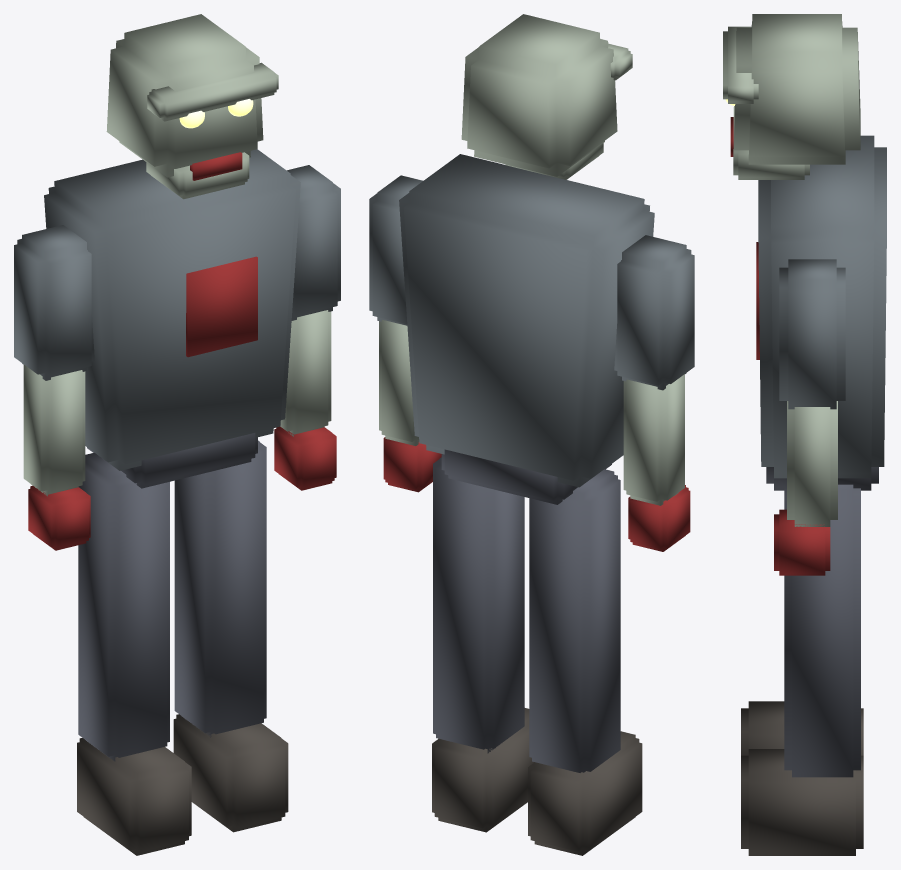
Rendered from zombie-walker.glb.
3 views of the same model, side by side, from view 1: azimuth 30°, elevation 25°; view 2: azimuth 150°, elevation 25°; view 3: azimuth 270°, elevation 25° (orthographic).
Visible parts, largest first — view 1: Torso, Leg_L, Leg_R, Arm_L, Head, Arm_R, Jaw; view 2: Torso, Leg_L, Leg_R, Arm_L, Head, Arm_R; view 3: Leg_R, Torso, Head, Arm_R, Leg_L, Jaw.
Boxes of the visible parts, x1,y1,x2,y2 form: Torso: (44,149,300,488); Leg_L: (77,452,191,855); Leg_R: (173,440,288,832); Arm_L: (14,225,94,550); Head: (106,14,278,177); Arm_R: (274,165,340,490); Jaw: (146,152,249,199); Torso: (399,154,654,504); Leg_L: (528,469,642,855); Leg_R: (432,457,534,832); Arm_L: (614,235,694,551); Head: (461,14,632,176); Arm_R: (369,175,441,492); Leg_R: (741,484,863,855); Torso: (756,135,886,490); Head: (723,14,860,164); Arm_R: (774,259,845,575); Leg_L: (741,701,863,755); Jaw: (730,117,809,179).
Size of the model in its own units: 0.69 by 1.7 by 0.3207.
